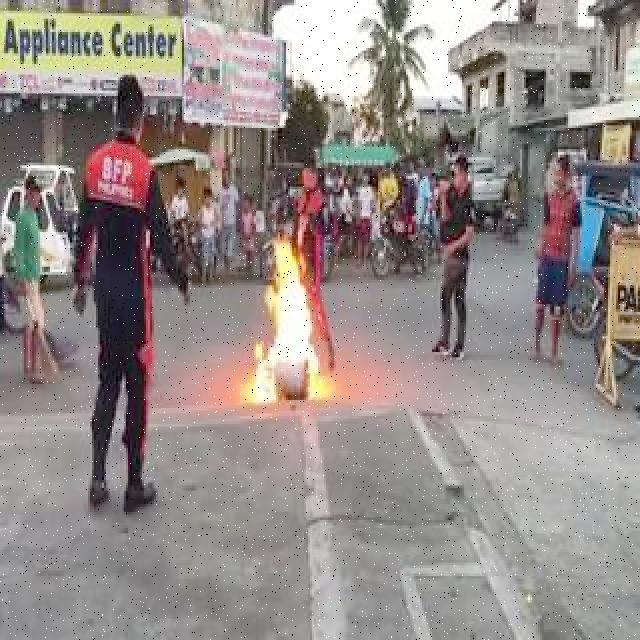fire: (256, 238, 326, 406)
